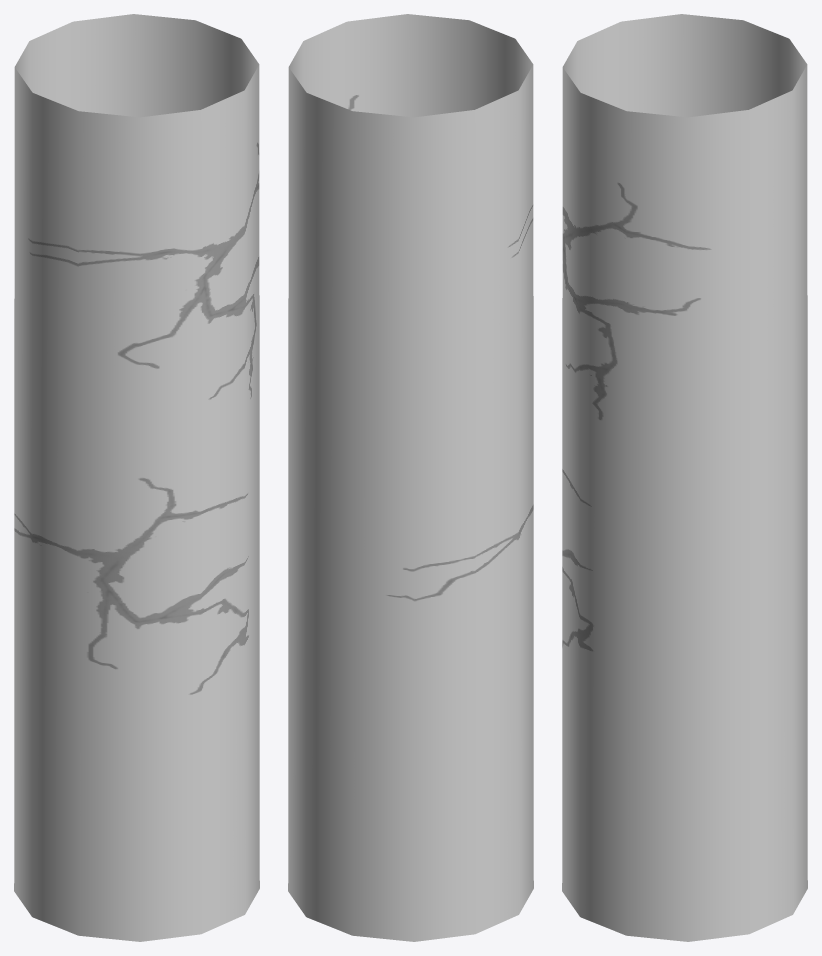
File: TGPL.FBX
3 views of the same model, side by side, from view 1: azimuth 30°, elevation 25°; view 2: azimuth 150°, elevation 25°; view 3: azimuth 270°, elevation 25° (orthographic).
Parts seen in each view (by area): view 1: 对象001; view 2: 对象001; view 3: 对象001.
Boxes of the visible parts, box(x1,y1,x2,y2) form: 对象001: box(14, 14, 259, 941); 对象001: box(288, 14, 533, 941); 对象001: box(562, 14, 807, 941).
Bounding box in the file's own units: 189 × 701 × 189.
